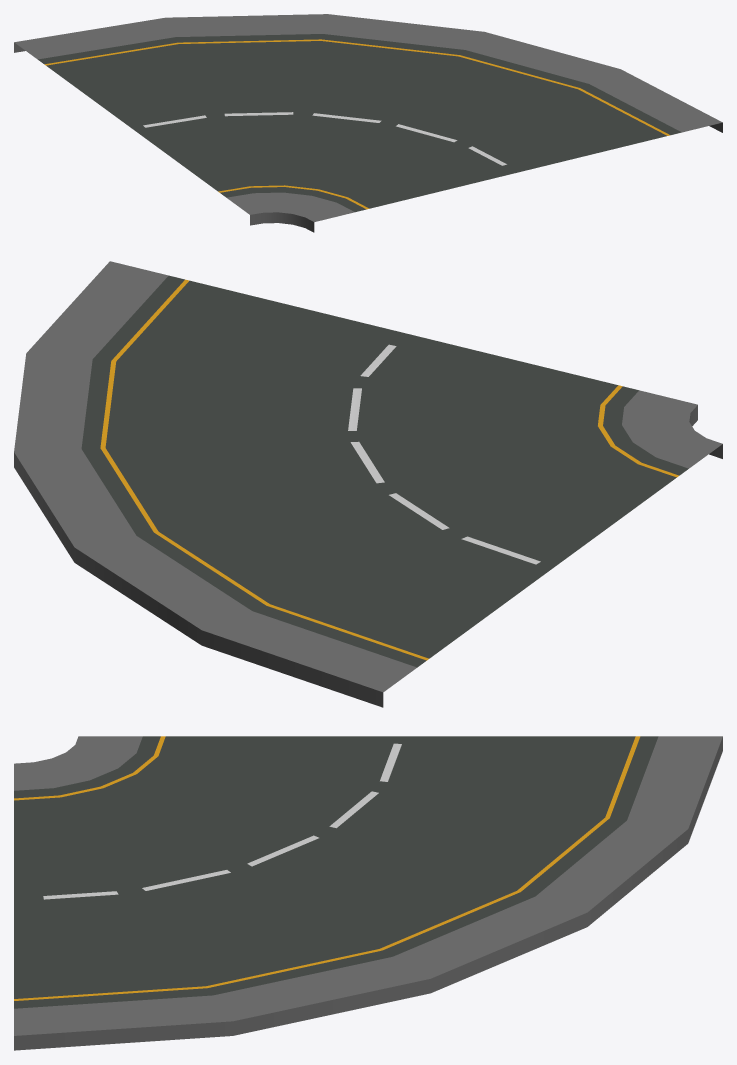
File: SM_Road_3.FBX
3 views of the same model, one above another, from view 1: azimuth 30°, elevation 25°; view 2: azimuth 150°, elevation 25°; view 3: azimuth 270°, elevation 25° (orthographic). The views are drawn at different scales.
Visible parts, largest first — view 1: SM_Road_3; view 2: SM_Road_3; view 3: SM_Road_3.
Part boxes in pixels (x1,y1,x2,y2): SM_Road_3: (14,14,722,232); SM_Road_3: (14,261,722,707); SM_Road_3: (14,736,722,1050).
Size of what is drawn, in the model's own units: 1100 by 1100 by 25.
